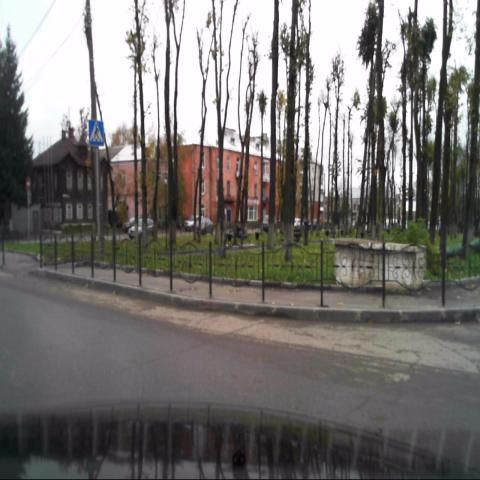5_19_1: (88, 119, 104, 146)
